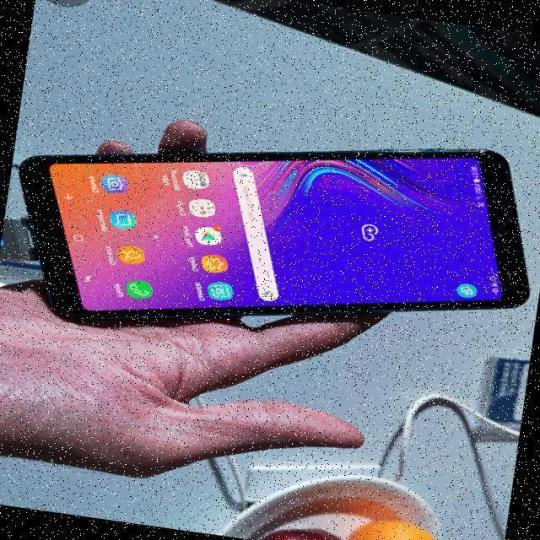phone: (18, 154, 532, 322)
